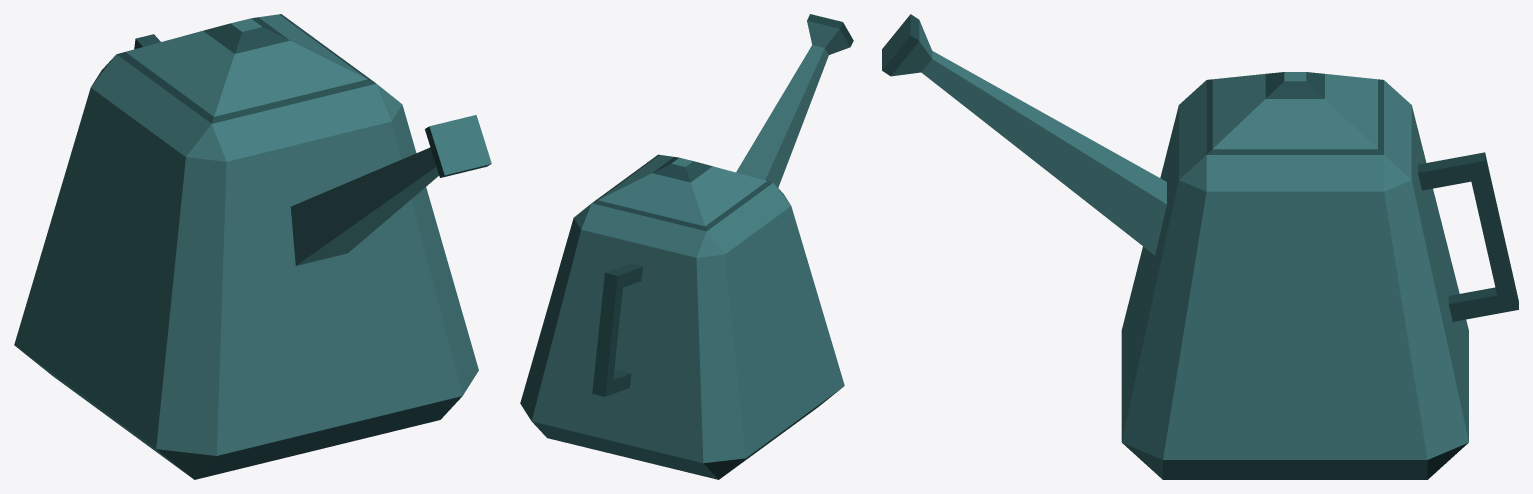
File: Watering_Can_1_Blue.fbx
The picture shows the model from 3 angles, left to right: view 1: azimuth 30°, elevation 25°; view 2: azimuth 150°, elevation 25°; view 3: azimuth 270°, elevation 25°; orthographic projection. The views are drawn at different scales.
Visible parts, largest first — view 1: Watering_Can_1_Blue; view 2: Watering_Can_1_Blue; view 3: Watering_Can_1_Blue.
Boxes of the visible parts, x1,y1,x2,y2 form: Watering_Can_1_Blue: (14,14,491,479); Watering_Can_1_Blue: (520,14,853,479); Watering_Can_1_Blue: (882,14,1518,479).
Bounding box in the file's own units: 70 × 88.79 × 128.
